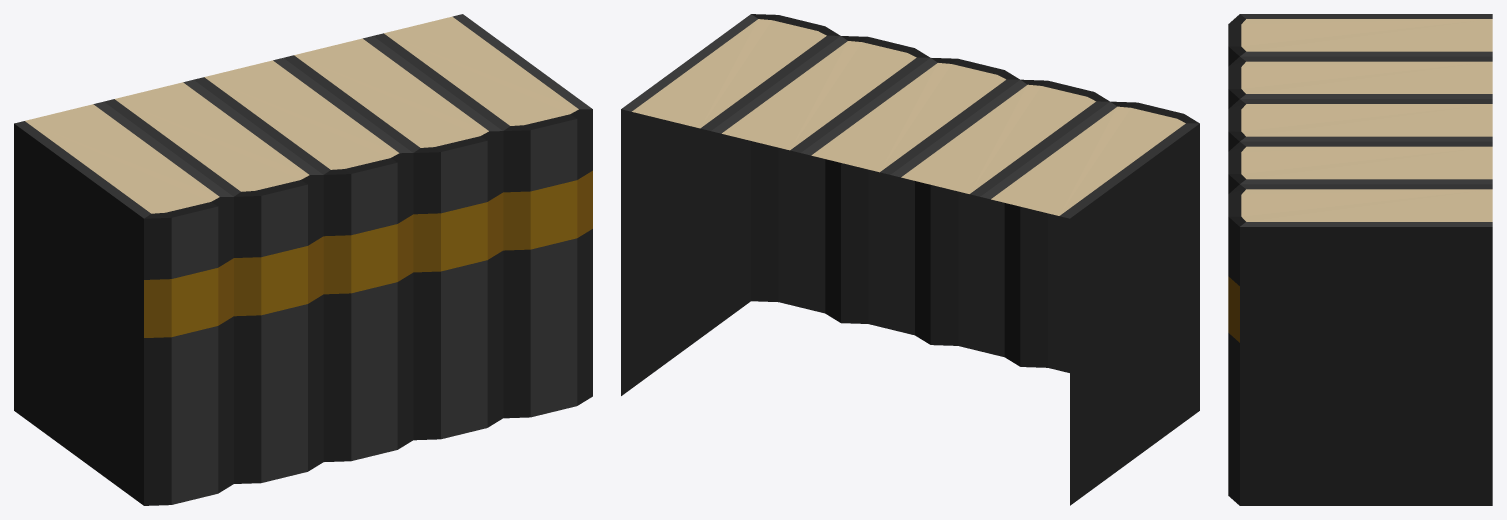
File: Prop_BookBunchF.fbx
3 renders of one model, left to right at view 1: azimuth 30°, elevation 25°; view 2: azimuth 150°, elevation 25°; view 3: azimuth 270°, elevation 25°, orthographic. The views are drawn at different scales.
Parts seen in each view (by area): view 1: Prop_BookBunchF; view 2: Prop_BookBunchF; view 3: Prop_BookBunchF.
Part boxes in pixels (x1=…): Prop_BookBunchF: x1=14, y1=14, x2=592, y2=505; Prop_BookBunchF: x1=621, y1=14, x2=1199, y2=505; Prop_BookBunchF: x1=1228, y1=14, x2=1492, y2=505.
Size of the model in its own units: 42.39 by 25.92 by 22.25.
